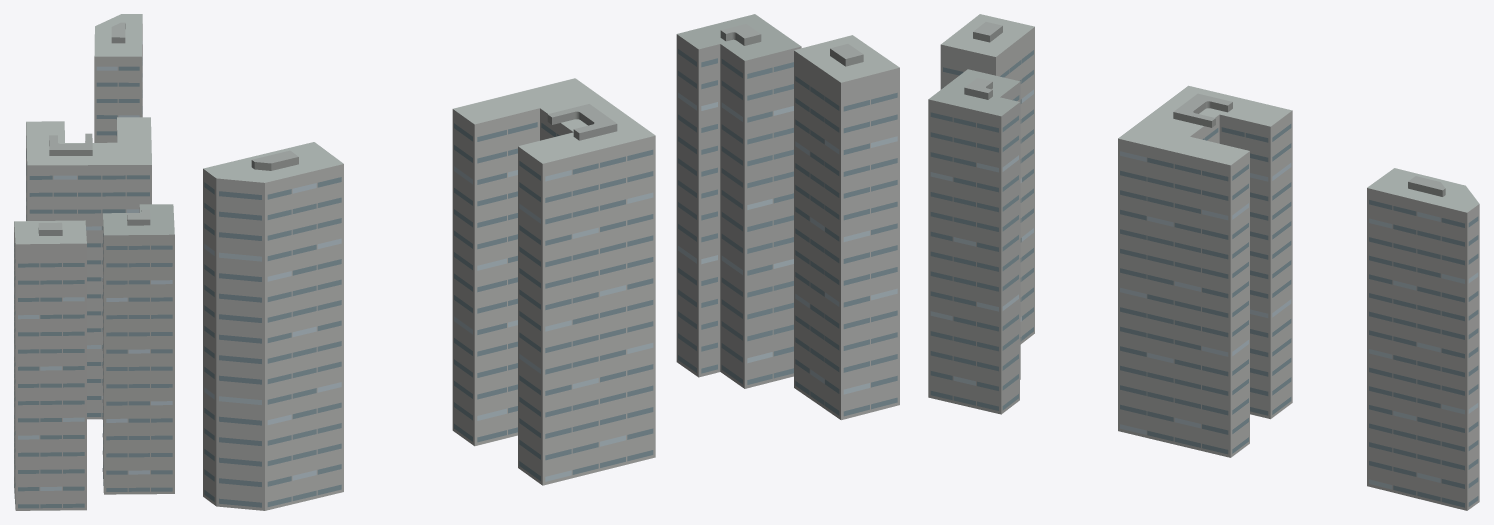
The model's file is apt-a12103006.glb.
3 renders of one model, left to right at view 1: azimuth 30°, elevation 25°; view 2: azimuth 150°, elevation 25°; view 3: azimuth 270°, elevation 25°, orthographic. The views are drawn at different scales.
Parts seen in each view (by area): view 1: apt-a12103006; view 2: apt-a12103006; view 3: apt-a12103006.
Part boxes in pixels (x1=…): apt-a12103006: x1=14, y1=14, x2=174, y2=510; apt-a12103006: x1=203, y1=14, x2=899, y2=510; apt-a12103006: x1=928, y1=14, x2=1479, y2=510.
Bounding box in the file's own units: 143 × 110 × 175.
